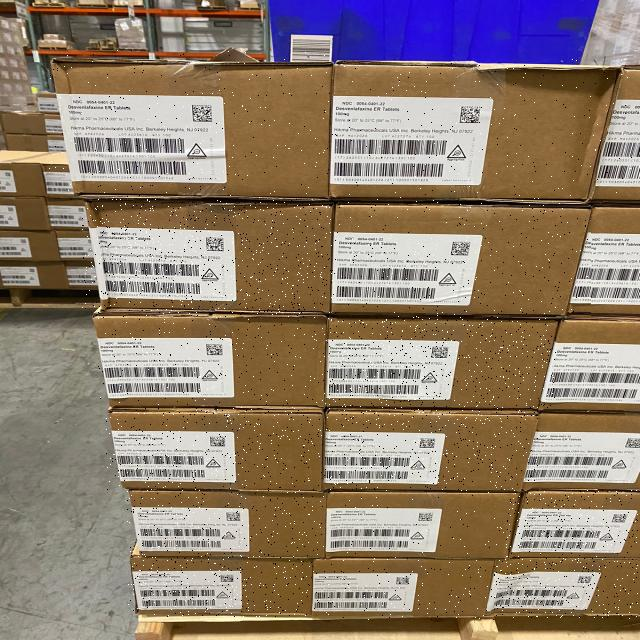BoxFace: (328, 58, 633, 204), (49, 50, 332, 201), (329, 204, 591, 318), (82, 199, 332, 314), (91, 307, 326, 408), (323, 316, 556, 408), (106, 407, 324, 491), (322, 408, 538, 492), (127, 489, 326, 558), (323, 491, 520, 559), (128, 554, 312, 617), (310, 557, 494, 620), (482, 558, 638, 620), (506, 490, 639, 558)
